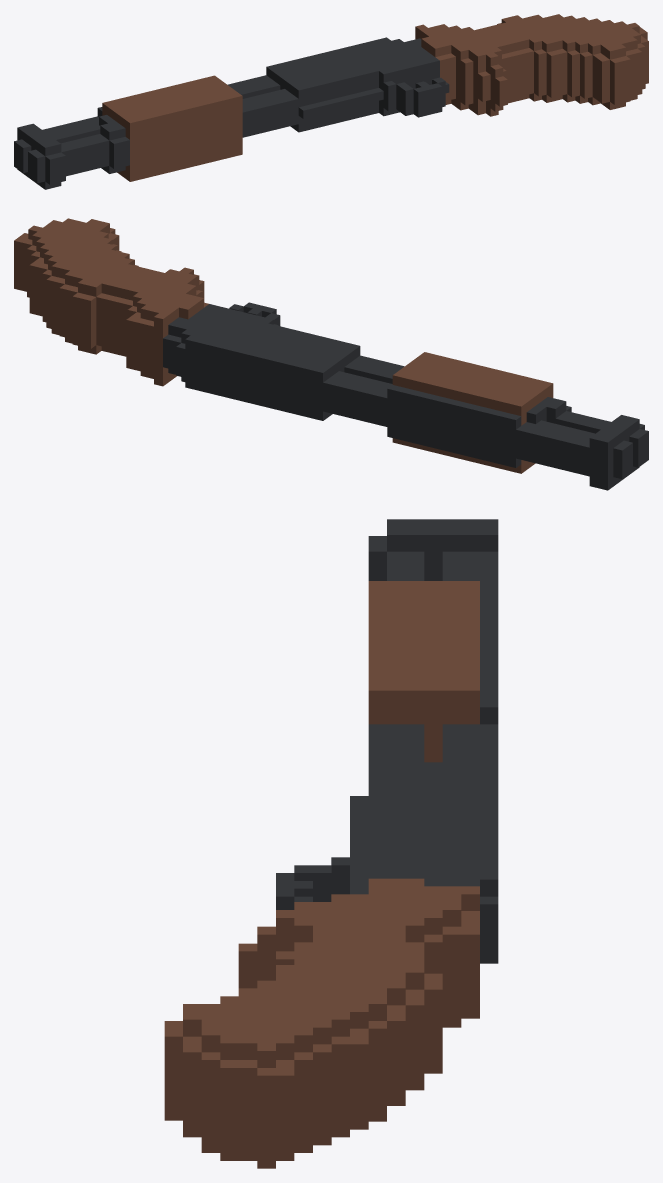
The model's file is gun_2.obj.
The picture shows the model from 3 angles, top to bottom: view 1: azimuth 30°, elevation 25°; view 2: azimuth 150°, elevation 25°; view 3: azimuth 270°, elevation 25°; orthographic projection. The views are drawn at different scales.
Bounding box in the file's own units: 7.2 × 0.7 × 1.8.
1 material, 1 textured.
